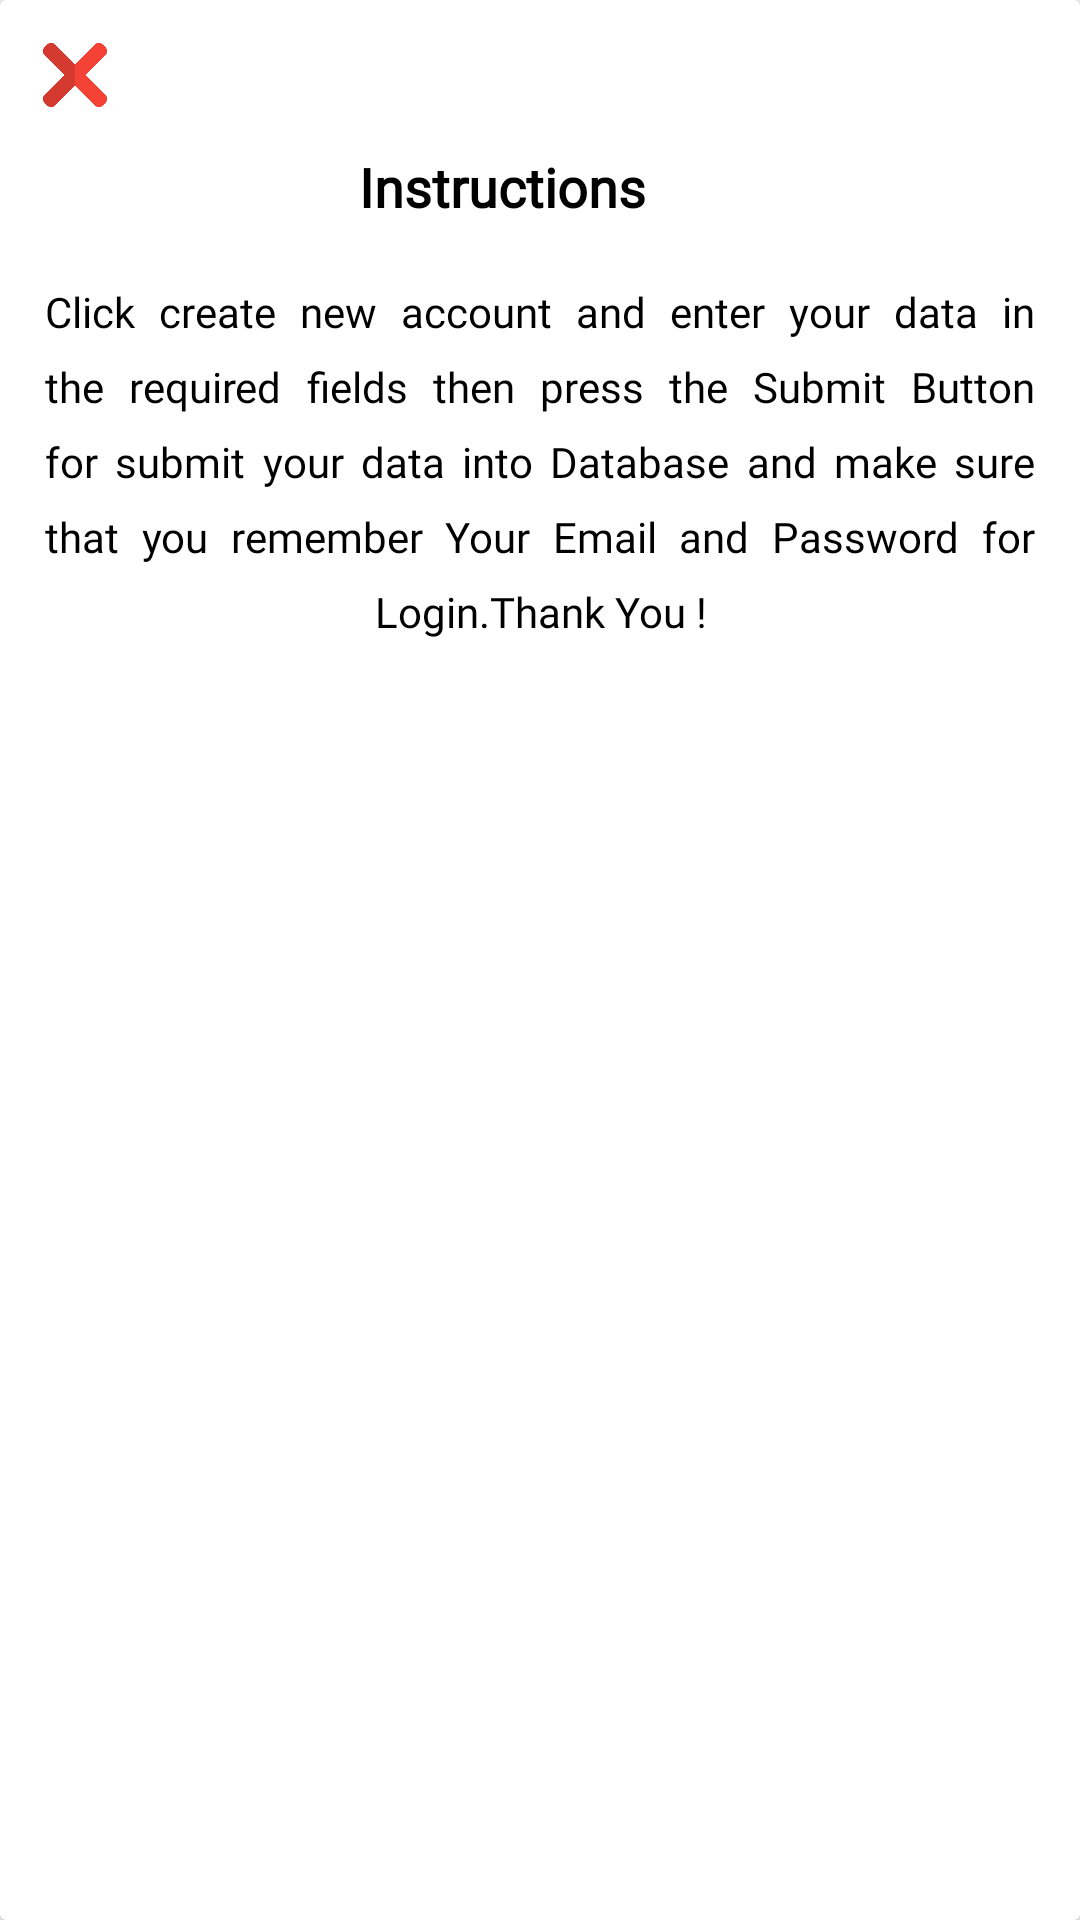

Screen size 1080×1920. Icon name, then its box in pixels as (x1, y1, x2, y2):
close: (43, 43, 107, 107)
